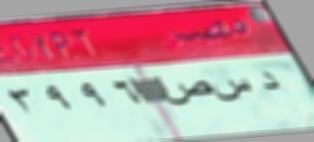3: (8, 83, 35, 118)
6: (113, 78, 140, 107)
9: (41, 83, 73, 116), (79, 79, 108, 115)
daal: (257, 69, 281, 95)
saad: (161, 77, 215, 109)
seen: (216, 74, 251, 106)
